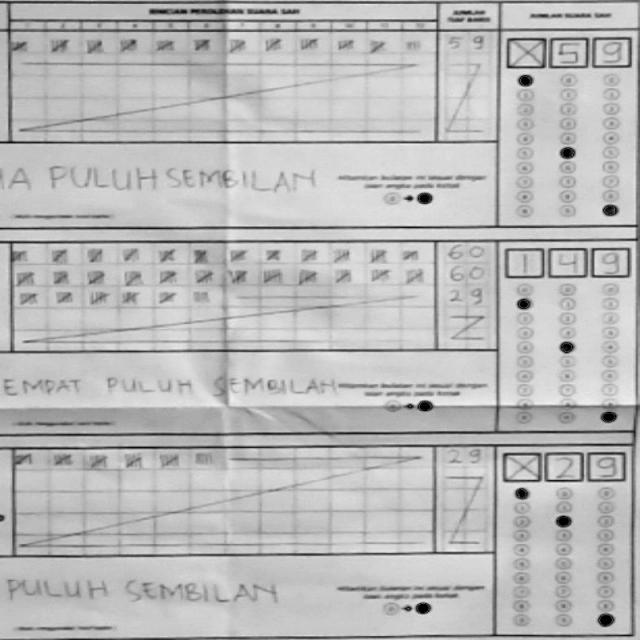Suara: (504, 28, 634, 72), (500, 238, 630, 280), (501, 448, 627, 487)
